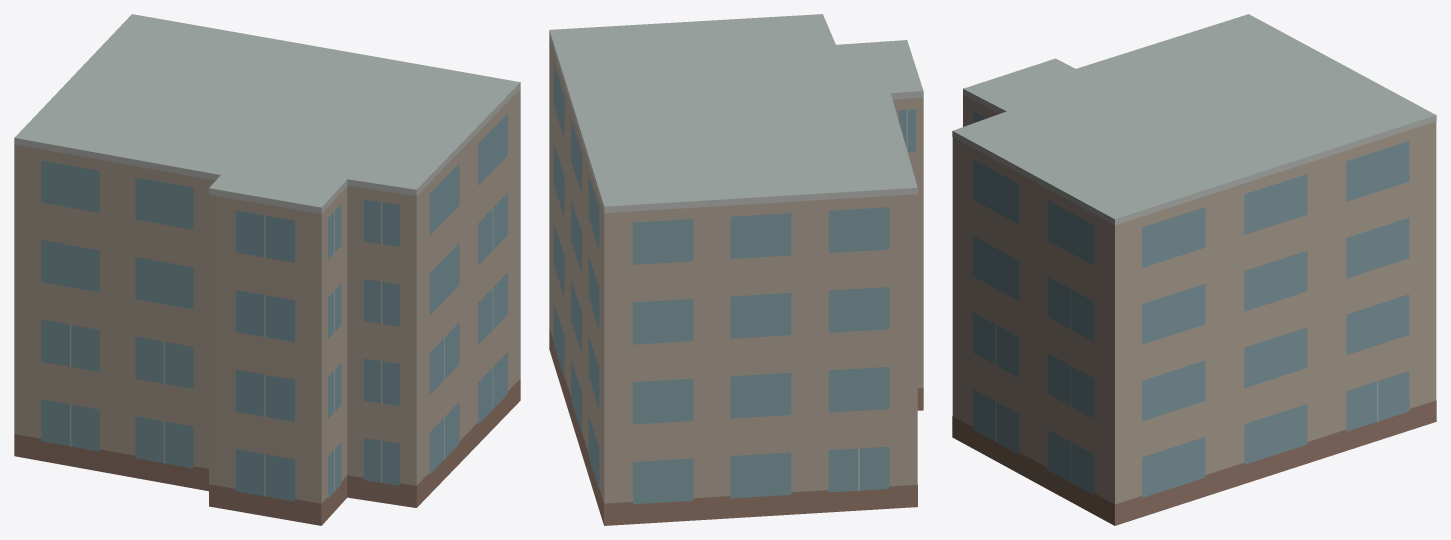
Rendered from survey-upis-32808829.glb.
3 renders of one model, left to right at view 1: azimuth 30°, elevation 25°; view 2: azimuth 150°, elevation 25°; view 3: azimuth 270°, elevation 25°, orthographic. The views are drawn at different scales.
Visible parts, largest first — view 1: survey-upis-32808829.tmp; view 2: survey-upis-32808829.tmp; view 3: survey-upis-32808829.tmp.
Part boxes in pixels (x1,y1,x2,y2): survey-upis-32808829.tmp: (14,14,520,525); survey-upis-32808829.tmp: (549,14,923,525); survey-upis-32808829.tmp: (952,14,1436,525).
Bounding box in the file's own units: 17.39 × 12.1 × 17.32.
